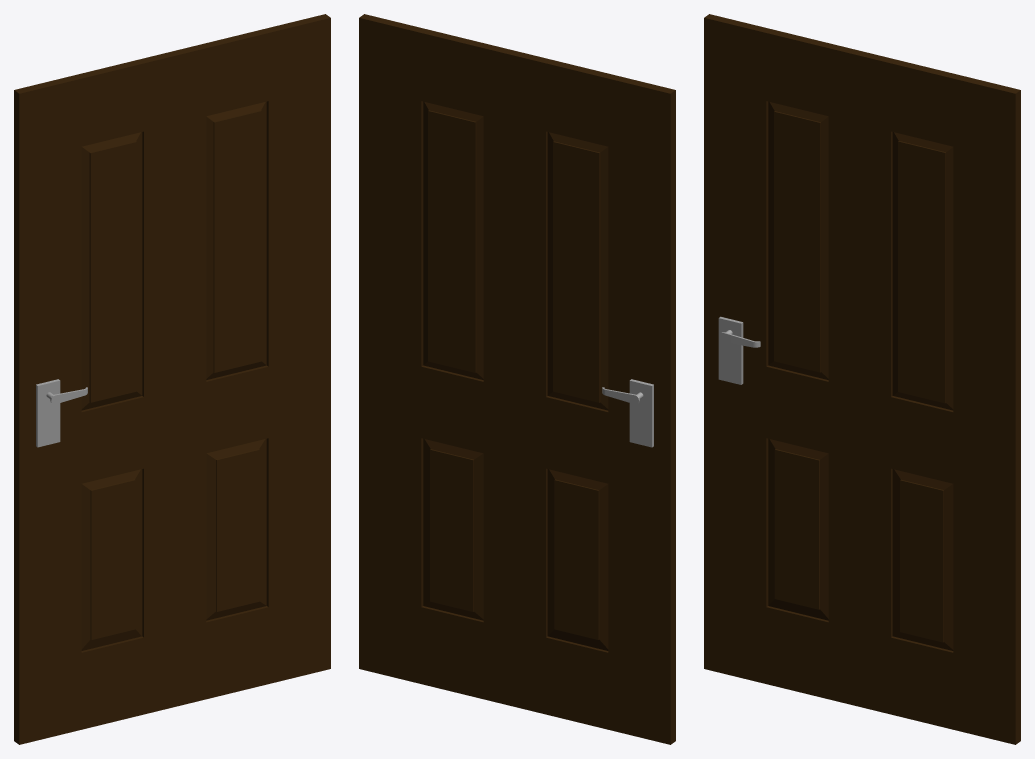
Rendered from NewDoor.fbx.
3 renders of one model, left to right at view 1: azimuth 30°, elevation 25°; view 2: azimuth 150°, elevation 25°; view 3: azimuth 330°, elevation 25°, orthographic.
Parts seen in each view (by area): view 1: Door; view 2: Door; view 3: Door.
Part boxes in pixels (x1,y1,x2,y2): Door: (14, 14, 330, 744); Door: (359, 14, 675, 744); Door: (704, 14, 1020, 744).
Bounding box in the file's own units: 199 × 398 × 24.01.
